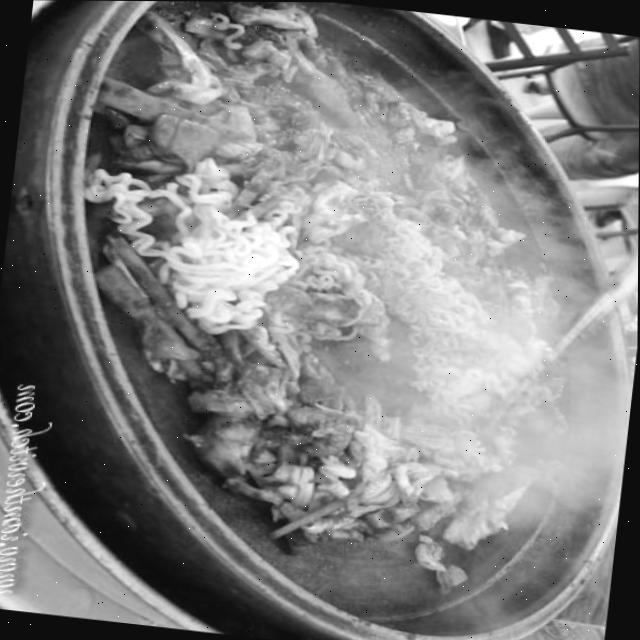鸡肉料理 含炸鸡: (14, 0, 640, 640)
